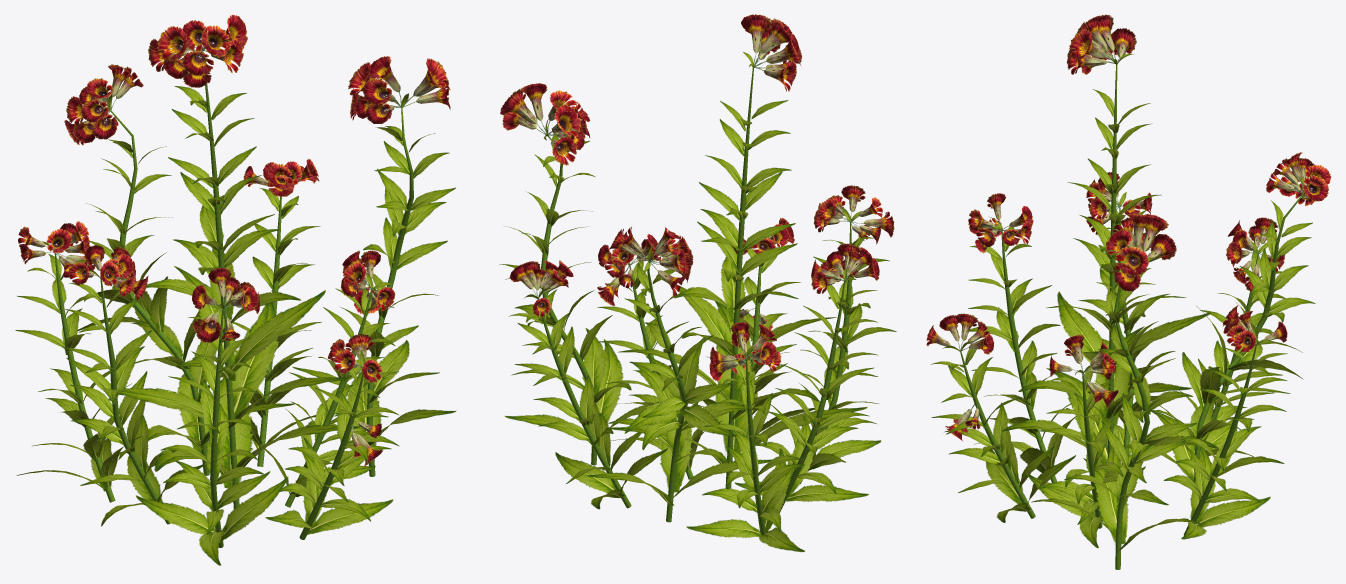
The model's file is Sneezeweed.glb.
The picture shows the model from 3 angles, left to right: view 1: azimuth 30°, elevation 25°; view 2: azimuth 150°, elevation 25°; view 3: azimuth 270°, elevation 25°; orthographic projection. The views are drawn at different scales.
Parts seen in each view (by area): view 1: Leaf_2_spring_3.001, Flower_Blue_spring_1.001, Bark_spring_0.001; view 2: Leaf_2_spring_3.001, Flower_Blue_spring_1.001, Bark_spring_0.001; view 3: Leaf_2_spring_3.001, Flower_Blue_spring_1.001, Bark_spring_0.001.
Boxes of the visible parts, x1,y1,x2,y2 form: Leaf_2_spring_3.001: (15,44,456,565); Flower_Blue_spring_1.001: (18,14,450,467); Bark_spring_0.001: (54,83,413,547); Leaf_2_spring_3.001: (499,51,896,551); Flower_Blue_spring_1.001: (500,14,894,381); Bark_spring_0.001: (537,68,851,542); Leaf_2_spring_3.001: (930,54,1315,550); Flower_Blue_spring_1.001: (926,14,1331,440); Bark_spring_0.001: (960,64,1303,569).
Size of the model in its own units: 2.69 by 3.34 by 2.62.
Materials: 3 (3 with a texture image).
